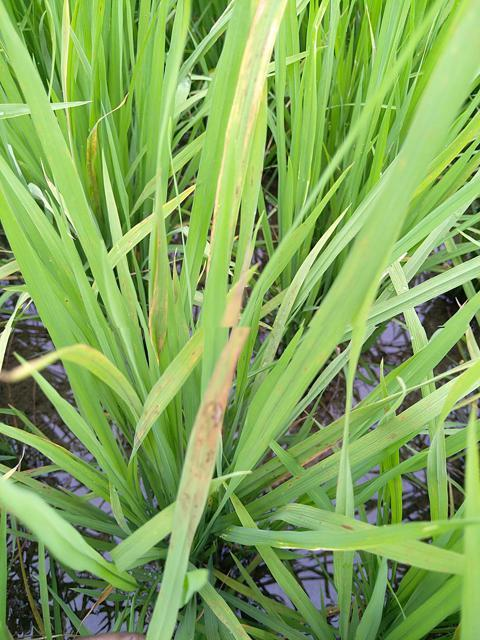Leaf Streak: (145, 271, 255, 639), (223, 0, 288, 202)
